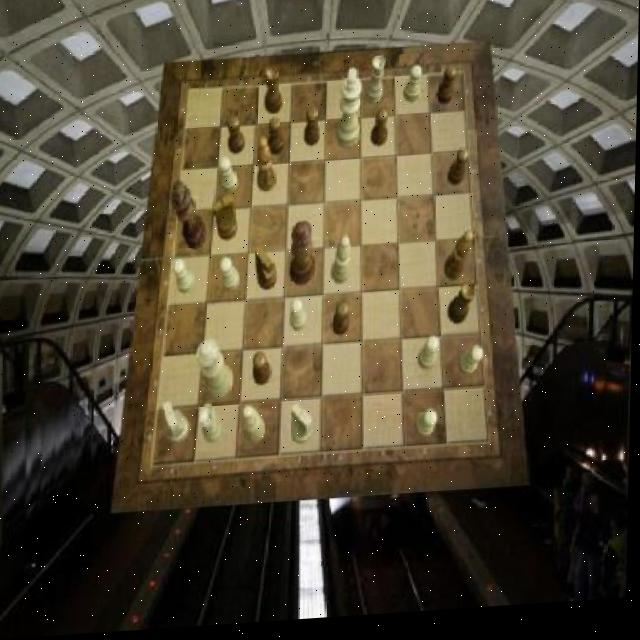bishop: (446, 236, 475, 287), (258, 140, 279, 196)
black-bishop: (171, 181, 208, 254)
black-king: (214, 198, 240, 245), (256, 248, 280, 295)
black-knight: (448, 155, 470, 192), (438, 73, 458, 112), (371, 113, 389, 153), (228, 119, 246, 158), (267, 120, 285, 159), (332, 306, 351, 341), (305, 111, 322, 150), (255, 356, 273, 391)
black-pawn: (292, 224, 319, 291)
black-queen: (449, 287, 477, 331), (265, 70, 284, 118)
black-rook: (333, 241, 354, 290), (242, 409, 267, 449)
white-bishop: (337, 73, 363, 155)
white-king: (163, 403, 191, 447), (292, 406, 316, 449)
white-knight: (459, 351, 485, 384), (175, 259, 198, 296), (221, 158, 241, 196), (421, 341, 442, 377), (221, 259, 241, 295), (416, 415, 440, 444), (404, 70, 422, 108), (292, 302, 310, 337)
white-pawn: (198, 341, 236, 405)
white-queen: (201, 406, 226, 448), (365, 60, 386, 110)
